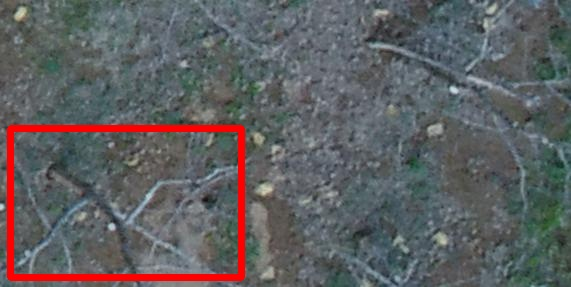apple: (10, 128, 241, 277)
